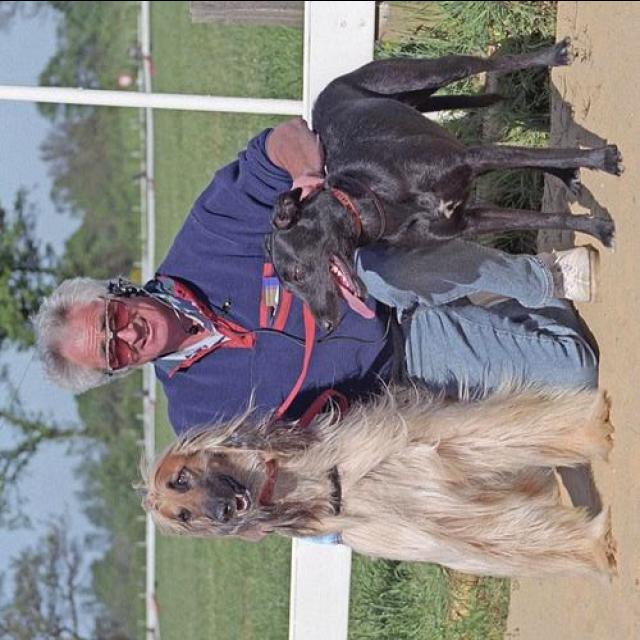afghan_hound: (144, 384, 618, 584)
